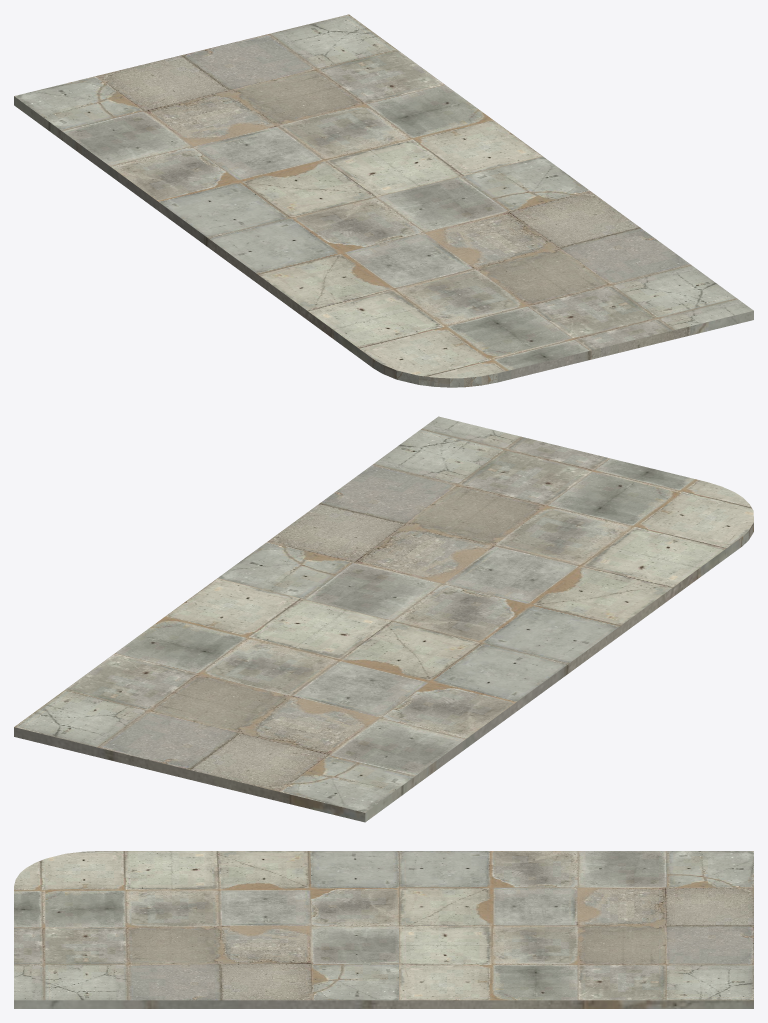
3 views of the same model, one above another, from view 1: azimuth 30°, elevation 25°; view 2: azimuth 150°, elevation 25°; view 3: azimuth 270°, elevation 25° (orthographic). The views are drawn at different scales.
Visible parts, largest first — view 1: Component_1_1; view 2: Component_1_1; view 3: Component_1_1.
Part boxes in pixels (box(x1,y1,x2,y2)): Component_1_1: box(14, 14, 753, 387); Component_1_1: box(14, 416, 753, 822); Component_1_1: box(14, 851, 753, 1008).
Bounding box in the file's own units: 145 × 3.81 × 303.
